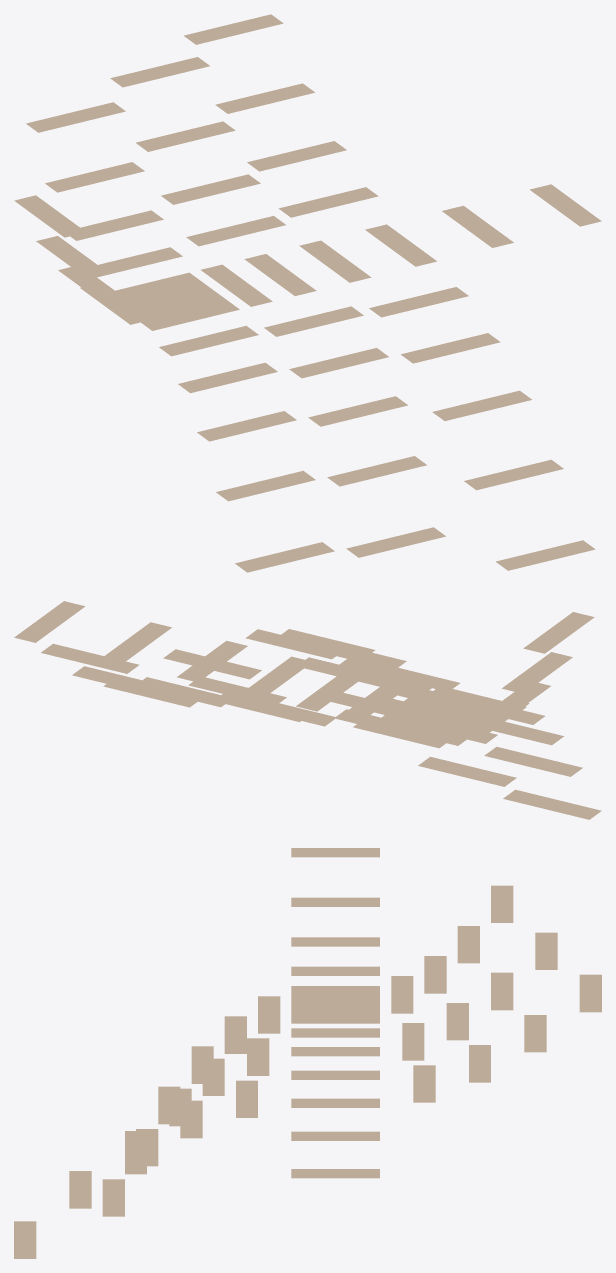
The model's file is MODEL_level_design_playground.fbx.
The picture shows the model from 3 angles, top to bottom: view 1: azimuth 30°, elevation 25°; view 2: azimuth 150°, elevation 25°; view 3: azimuth 270°, elevation 25°; orthographic projection. The views are drawn at different scales.
Visible parts, largest first — view 1: Step.019, Step.010, Step.005, Step.003, Step.002, Step.027, Step.026, Step.024, Step.028, Step.023, Step.022, Step.021 (+11 smaller); view 2: Step.028, Step.023, Step.013, Step.012, Step.008, Step.007, Step.004, Step.002, Step.003, Step.019, Step.024, Step.011 (+7 smaller); view 3: Step.024, Step.008, Step.002, Step.027, Step.026, Step.023, Step.019, Step.010, Step.009, Step.007, Step.005, Step.004 (+8 smaller).
Boxes of the visible parts, x1=… form: Step.019: x1=264, y1=306, x2=363, y2=336; Step.010: x1=178, y1=362, x2=277, y2=393; Step.005: x1=278, y1=187, x2=378, y2=217; Step.003: x1=161, y1=174, x2=260, y2=204; Step.002: x1=136, y1=121, x2=235, y2=151; Step.027: x1=496, y1=540, x2=595, y2=570; Step.026: x1=464, y1=459, x2=563, y2=490; Step.024: x1=401, y1=333, x2=500, y2=363; Step.028: x1=369, y1=287, x2=468, y2=317; Step.023: x1=346, y1=527, x2=445, y2=557; Step.022: x1=327, y1=456, x2=426, y2=486; Step.021: x1=308, y1=396, x2=407, y2=426; Step.028: x1=245, y1=629, x2=343, y2=659; Step.023: x1=418, y1=756, x2=516, y2=786; Step.013: x1=503, y1=789, x2=601, y2=819; Step.012: x1=484, y1=746, x2=582, y2=776; Step.008: x1=41, y1=643, x2=139, y2=673; Step.007: x1=72, y1=666, x2=170, y2=696; Step.004: x1=163, y1=649, x2=261, y2=679; Step.002: x1=188, y1=676, x2=286, y2=706; Step.003: x1=213, y1=694, x2=311, y2=721; Step.019: x1=339, y1=657, x2=434, y2=687; Step.024: x1=281, y1=629, x2=375, y2=658; Step.011: x1=492, y1=722, x2=563, y2=745; Step.024: x1=180, y1=1100, x2=202, y2=1138; Step.008: x1=579, y1=974, x2=601, y2=1012; Step.002: x1=491, y1=972, x2=513, y2=1010; Step.027: x1=14, y1=1221, x2=36, y2=1258; Step.026: x1=69, y1=1171, x2=91, y2=1208; Step.023: x1=102, y1=1179, x2=124, y2=1216; Step.019: x1=247, y1=1038, x2=269, y2=1075; Step.010: x1=224, y1=1016, x2=246, y2=1053; Step.009: x1=258, y1=996, x2=280, y2=1033; Step.007: x1=524, y1=1015, x2=546, y2=1052; Step.005: x1=413, y1=1065, x2=435, y2=1102; Step.004: x1=535, y1=932, x2=557, y2=969.
Size of the model in its own units: 4900 by 2500 by 5300.
